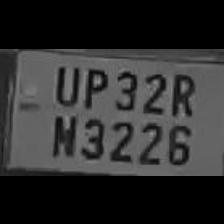2: (104, 116, 134, 162), (134, 116, 162, 164), (139, 68, 166, 113)
3: (108, 64, 138, 110), (76, 111, 104, 159)
6: (163, 117, 193, 165)
N: (47, 108, 77, 156)
P: (78, 61, 108, 107)
R: (166, 66, 196, 118)
U: (48, 60, 80, 106)
